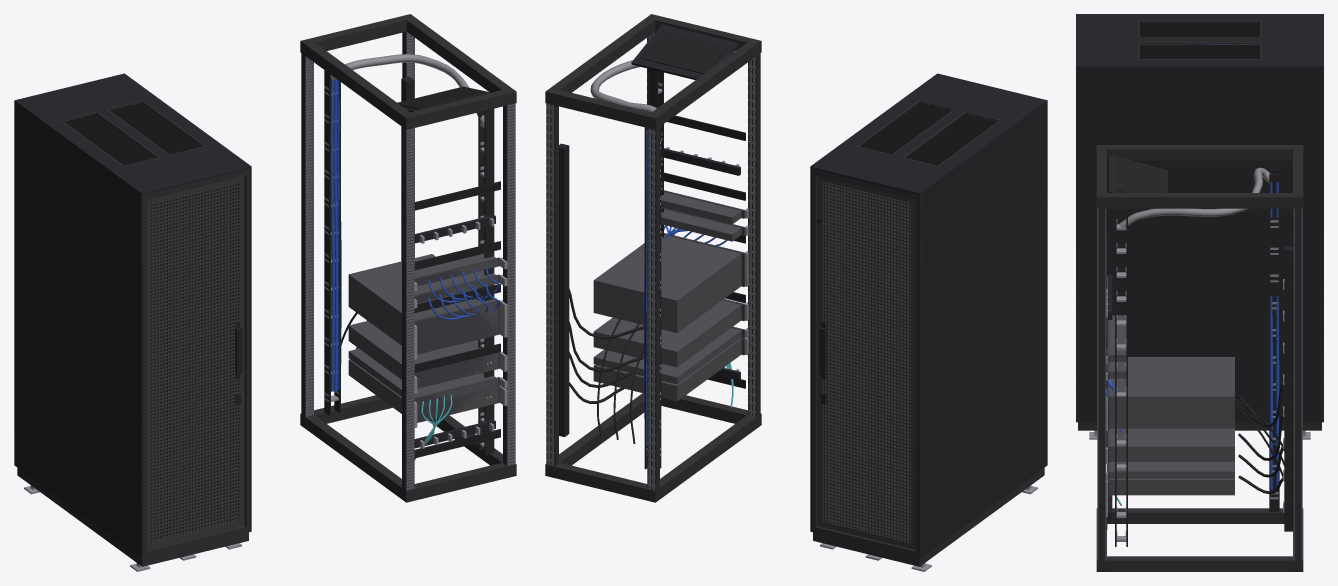
3 views of the same model, side by side, from view 1: azimuth 30°, elevation 25°; view 2: azimuth 150°, elevation 25°; view 3: azimuth 270°, elevation 25° (orthographic). The views are drawn at different scales.
Parts seen in each view (by area): view 1: RackA_SidePanel_L, RackA_FrontDoor, RackB, RackA_FrontFrame, RackA, RackB_SRV_U14_4U_Body, RackA_TopPanel_F, RackA_TopPanel_B, RackB_Post_1_MountPlate, RackB_Post_2_MountPlate, RackB_Post_3_MountPlate, RackB_CableMgr_Vert_L (+33 smaller); view 2: RackA_SidePanel_L, RackA_RearDoor, RackB, RackB_SRV_U14_4U_Body, RackA_RearFrame, RackA, RackB_SRV_U10_2U_Body, RackA_TopPanel_B, RackA_TopPanel_F, RackB_PDU, RackB_Post_3_RearPlate, RackB_Post_4_RearPlate (+26 smaller); view 3: RackA_SidePanel_R, RackB_SRV_U14_4U_Body, RackB, RackA, RackB_SRV_U10_2U_Body, RackA_TopPanel_B, RackA_TopPanel_F, RackB_Frame_Btm_Y1, RackB_Frame_Top_Y1, RackB_Frame_Top_Y-1, RackB_PDU, RackB_Frame_Btm_Y-1 (+24 smaller).
Part boxes in pixels (<box>): RackA_SidePanel_L: <box>14,103,143,558</box>; RackA_FrontDoor: <box>147,176,244,549</box>; RackB: <box>301,31,515,490</box>; RackA_FrontFrame: <box>140,169,251,557</box>; RackA: <box>60,100,228,516</box>; RackB_SRV_U14_4U_Body: <box>348,254,497,345</box>; RackA_TopPanel_F: <box>109,143,251,195</box>; RackA_TopPanel_B: <box>14,73,155,124</box>; RackB_Post_1_MountPlate: <box>406,128,414,490</box>; RackB_Post_2_MountPlate: <box>507,103,515,465</box>; RackB_Post_3_MountPlate: <box>305,56,313,416</box>; RackB_CableMgr_Vert_L: <box>324,70,340,415</box>; RackA_SidePanel_L: <box>918,103,1047,558</box>; RackA_RearDoor: <box>817,176,914,549</box>; RackB: <box>546,31,760,491</box>; RackB_SRV_U14_4U_Body: <box>593,234,741,332</box>; RackA_RearFrame: <box>810,168,921,558</box>; RackA: <box>833,100,1001,516</box>; RackB_SRV_U10_2U_Body: <box>593,300,741,367</box>; RackA_TopPanel_B: <box>810,143,952,195</box>; RackA_TopPanel_F: <box>906,73,1047,124</box>; RackB_PDU: <box>559,143,569,436</box>; RackB_Post_3_RearPlate: <box>647,128,655,490</box>; RackB_Post_4_RearPlate: <box>546,104,554,465</box>; RackA_SidePanel_R: <box>1076,68,1323,422</box>; RackB_SRV_U14_4U_Body: <box>1109,357,1234,428</box>; RackB: <box>1098,206,1301,560</box>; RackA: <box>1138,20,1261,59</box>; RackB_SRV_U10_2U_Body: <box>1109,428,1234,461</box>; RackA_TopPanel_B: <box>1262,14,1323,68</box>; RackA_TopPanel_F: <box>1076,14,1137,68</box>; RackB_Frame_Btm_Y1: <box>1102,556,1297,571</box>; RackB_Frame_Top_Y1: <box>1102,193,1297,208</box>; RackB_Frame_Top_Y-1: <box>1102,145,1297,160</box>; RackB_PDU: <box>1284,246,1293,531</box>; RackB_Frame_Btm_Y-1: <box>1107,508,1284,523</box>.
Size of the model in its own units: 2.1 by 2 by 1.2.
